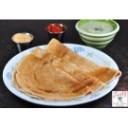dosa: (18, 39, 121, 95)
